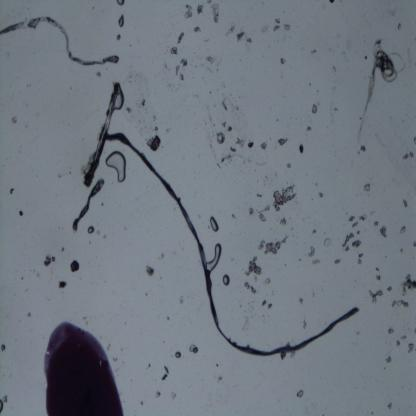Air bubble: (104, 150, 128, 184), (205, 241, 222, 272), (115, 90, 124, 112), (210, 216, 219, 232), (221, 272, 231, 286), (117, 14, 126, 27), (88, 226, 94, 234), (118, 0, 126, 6)
Background material: (81, 85, 119, 188), (272, 183, 296, 213), (258, 234, 288, 254), (245, 256, 264, 280), (401, 272, 416, 296), (256, 204, 272, 222), (367, 288, 384, 304), (146, 136, 162, 153), (42, 251, 57, 269), (391, 298, 412, 309), (342, 233, 355, 250), (0, 392, 9, 415), (211, 2, 220, 24), (243, 281, 257, 294), (161, 363, 170, 381), (70, 258, 80, 274), (144, 264, 155, 278), (271, 17, 281, 32), (204, 54, 216, 66), (400, 195, 409, 211), (322, 236, 333, 249), (184, 5, 193, 19), (307, 244, 316, 258), (57, 279, 68, 290), (188, 343, 199, 354), (399, 223, 407, 238), (221, 153, 234, 162), (226, 23, 235, 36), (380, 224, 388, 238), (352, 239, 362, 250), (277, 136, 289, 145), (10, 113, 19, 125), (177, 31, 185, 44), (385, 352, 393, 365), (278, 216, 288, 226), (402, 152, 414, 160), (170, 45, 178, 57), (310, 103, 318, 115), (154, 388, 162, 400), (298, 143, 305, 156), (374, 267, 381, 280), (296, 388, 305, 398), (217, 135, 226, 145), (362, 182, 372, 191), (235, 138, 246, 146), (197, 2, 204, 14), (221, 100, 228, 112), (247, 205, 254, 217), (372, 217, 379, 229), (356, 250, 362, 264), (259, 141, 268, 150), (174, 350, 182, 360), (247, 140, 255, 150), (394, 338, 402, 348), (180, 59, 190, 67), (408, 342, 414, 355), (388, 324, 394, 336), (333, 256, 342, 264), (193, 26, 202, 34), (304, 125, 313, 133), (359, 144, 367, 153), (237, 31, 245, 40), (179, 72, 186, 82), (298, 295, 304, 306), (310, 258, 321, 264), (229, 145, 237, 153), (260, 299, 268, 307), (400, 334, 408, 342), (301, 320, 307, 330), (18, 208, 24, 218), (175, 64, 180, 76), (386, 284, 392, 294), (0, 342, 6, 352), (360, 214, 368, 221), (283, 23, 290, 31), (388, 401, 394, 410), (8, 186, 14, 195), (141, 98, 147, 107), (351, 221, 358, 228), (349, 215, 356, 222), (265, 276, 271, 284), (96, 71, 102, 79), (280, 58, 288, 64), (318, 191, 326, 197), (127, 106, 132, 115), (310, 49, 317, 55), (267, 302, 273, 309), (221, 122, 227, 128), (413, 135, 416, 146), (61, 246, 65, 254), (286, 163, 292, 168), (312, 229, 317, 235), (246, 38, 252, 43), (228, 125, 232, 132), (400, 247, 404, 253), (413, 240, 416, 248), (116, 35, 120, 40), (329, 0, 335, 3), (364, 55, 367, 61), (358, 230, 361, 234)
Cellulose filter fibre: (0, 12, 120, 64), (357, 38, 408, 141), (70, 179, 106, 229)
Cotton: (104, 133, 361, 356)
Pen: (42, 318, 125, 416)
